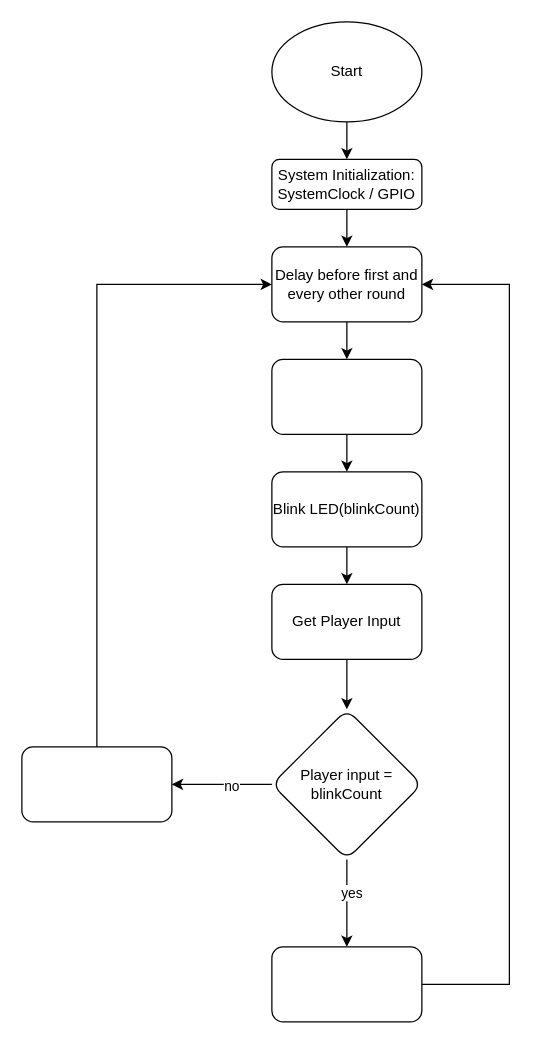
Some shapes in this 541 by 1044 pixel diagram are drawn without their labels. The shapes that lost their labels are listed below. From the top down, each one's centre as x and y in pixels, then its label:
(346,396): Generate blink count (1-5)
(96,784): Lose: Red LED
(346,984): Win: Green LED
